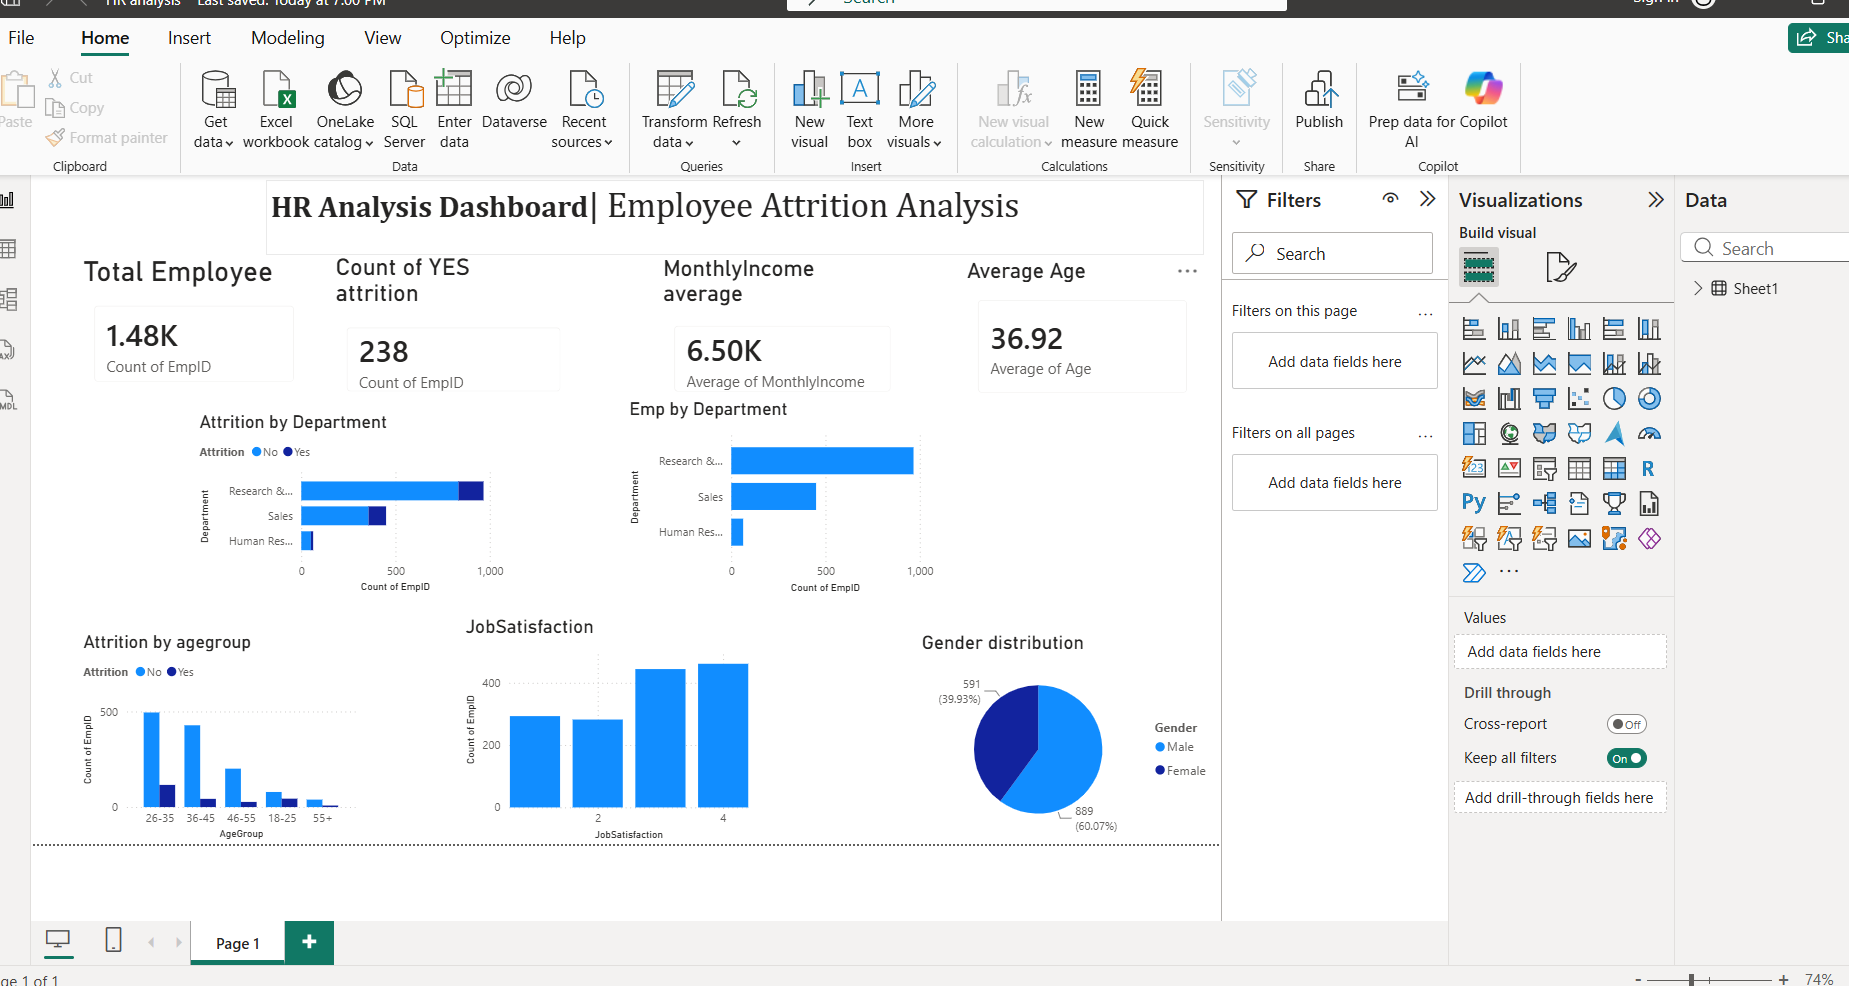

This screenshot's page, from the dashboard's own definition file:
{"tool":"powerbi","page":{"name":"Page 1","canvas":[1280,720],"ordinal":0},"visuals":[{"type":"cardVisual","title":"Total Employee","fields":{"Data":["CountNonNull(Sheet1.EmpID)"]},"box":[50.8,86.4,249.7,153.7],"z":0},{"type":"cardVisual","title":"Count of YES attrition ","fields":{"Data":["CountNonNull(Sheet1.EmpID)"]},"box":[322.5,85.1,264.8,166],"z":1000},{"type":"cardVisual","title":"Average Age","fields":{"Data":["Avg(Sheet1.Age)"]},"box":[1001.7,89.2,259.3,163.3],"z":2000},{"type":"cardVisual","title":"MonthlyIncome average","fields":{"Data":["Avg(Sheet1.MonthlyIncome)"]},"box":[675.1,86.4,267.6,164.7],"z":3000},{"type":"clusteredBarChart","title":" Emp by Department","fields":{"Category":["Sheet1.Department"],"Y":["CountNonNull(Sheet1.EmpID)"]},"box":[639.5,240.1,337.6,214.1],"z":4000},{"type":"barChart","title":"Attrition by Department","fields":{"Category":["Sheet1.Department"],"Y":["CountNonNull(Sheet1.EmpID)"],"Series":["Sheet1.Attrition"]},"box":[175.6,253.9,337.6,200.3],"z":5000},{"type":"pieChart","title":"Gender distribution","fields":{"Category":["Sheet1.Gender"],"Y":["CountNonNull(Sheet1.EmpID)"]},"box":[953.7,491.3,326.6,229.2],"z":6000},{"type":"clusteredColumnChart","title":"JobSatisfaction","fields":{"Y":["CountNonNull(Sheet1.EmpID)"],"Category":["Sheet1.JobSatisfaction"]},"box":[462.4,473.4,314.2,247],"z":7000},{"type":"clusteredColumnChart","title":"Attrition by agegroup","fields":{"Category":["Sheet1.AgeGroup"],"Y":["CountNonNull(Sheet1.EmpID)"],"Series":["Sheet1.Attrition"]},"box":[50.8,491.3,303.3,229.2],"z":8000},{"type":"textbox","box":[252.5,5.5,1008.6,81],"z":8002}]}

Visuals, with their boxes on the page's 1280x720 design canvas (x1, y1, x2, y2). These are canvas units, not pixel positions in the 1849x986 screenshot, which may show the page scaled, cropped or inside an application window:
"Total Employee" cardVisual: detection(51, 86, 300, 240)
"Count of YES attrition " cardVisual: detection(322, 85, 587, 251)
"Average Age" cardVisual: detection(1002, 89, 1261, 252)
"MonthlyIncome average" cardVisual: detection(675, 86, 943, 251)
" Emp by Department" clusteredBarChart: detection(640, 240, 977, 454)
"Attrition by Department" barChart: detection(176, 254, 513, 454)
"Gender distribution" pieChart: detection(954, 491, 1280, 720)
"JobSatisfaction" clusteredColumnChart: detection(462, 473, 777, 720)
"Attrition by agegroup" clusteredColumnChart: detection(51, 491, 354, 720)
textbox: detection(252, 6, 1261, 86)
